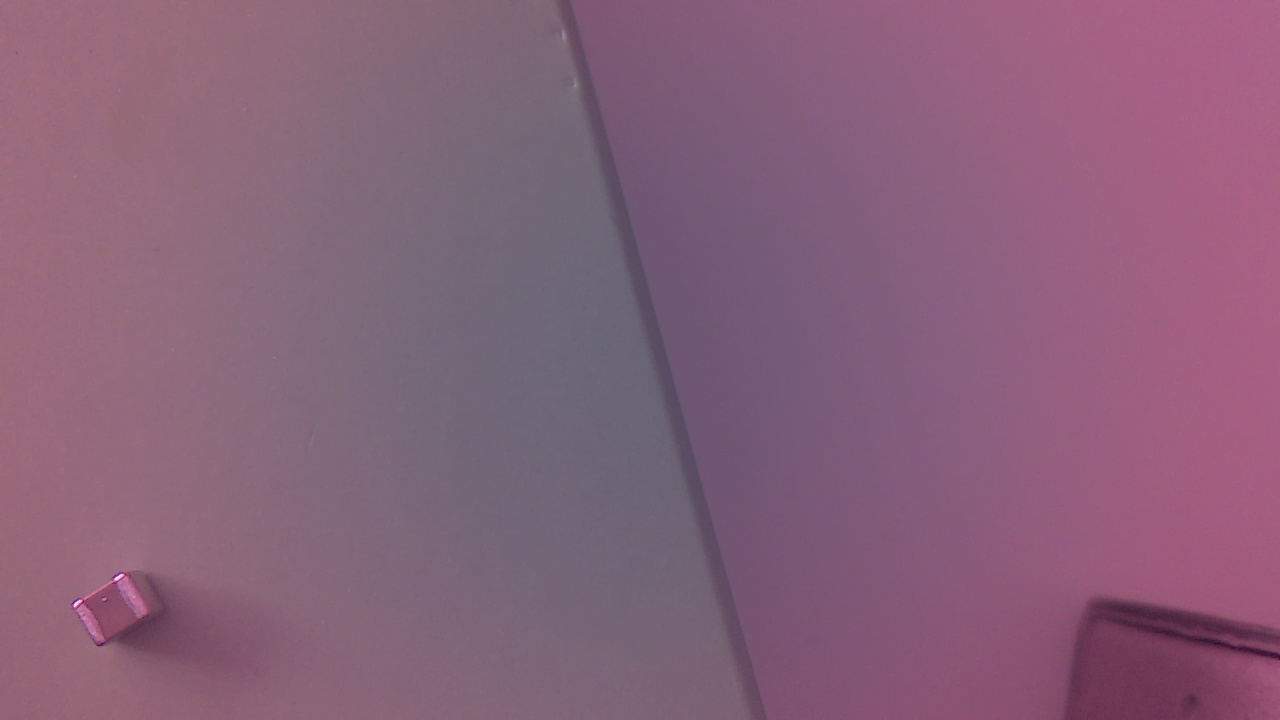Condensator: (79, 577, 163, 655)
